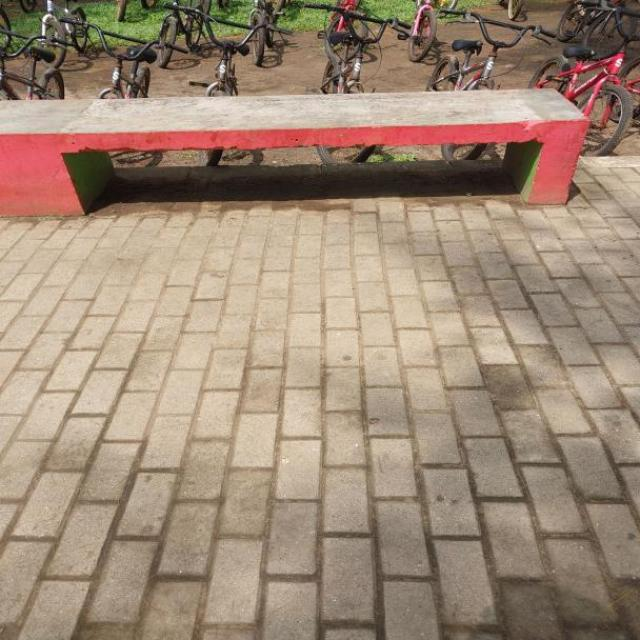bench ahead at: (0, 92, 587, 208)
